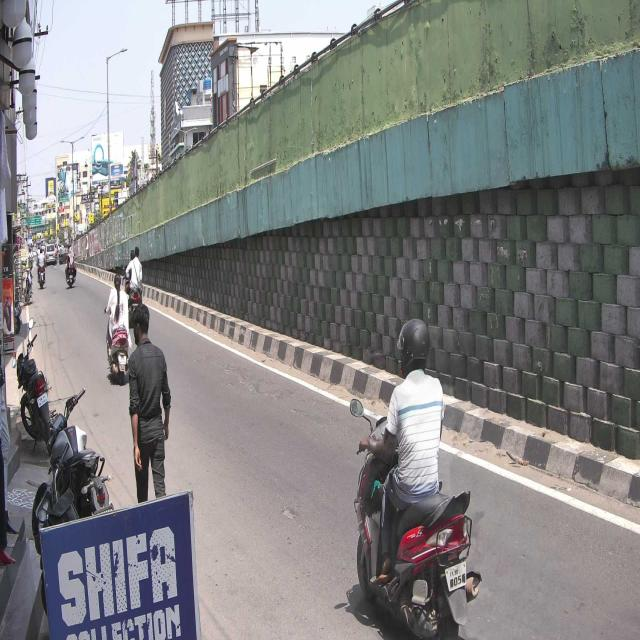single_rider: (350, 316, 483, 640)
